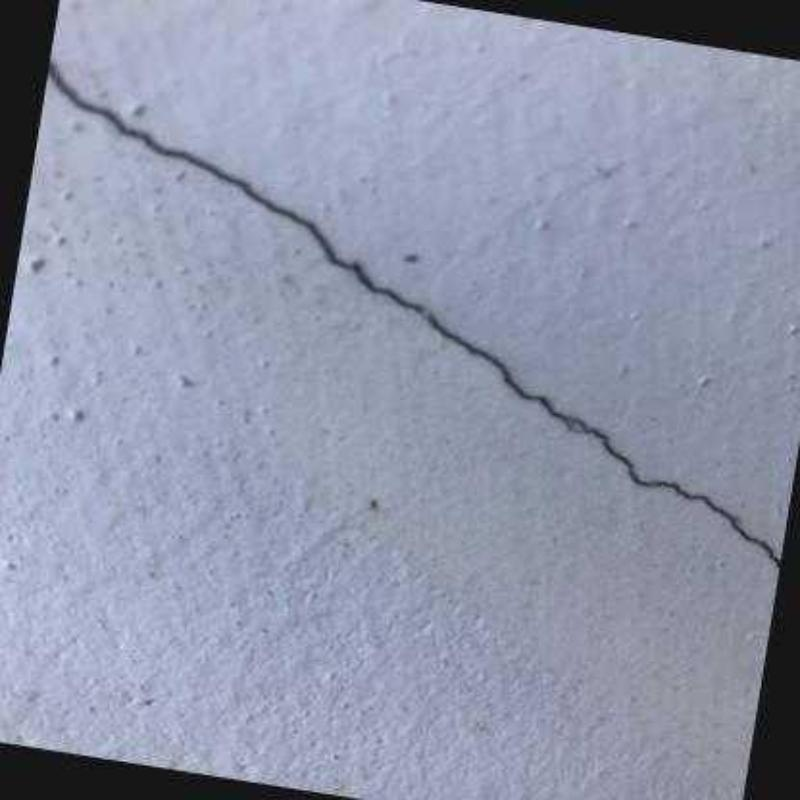pothole: (47, 59, 780, 571)
